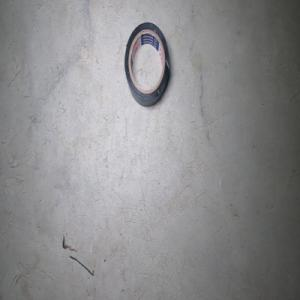Tape: (124, 21, 170, 107)
